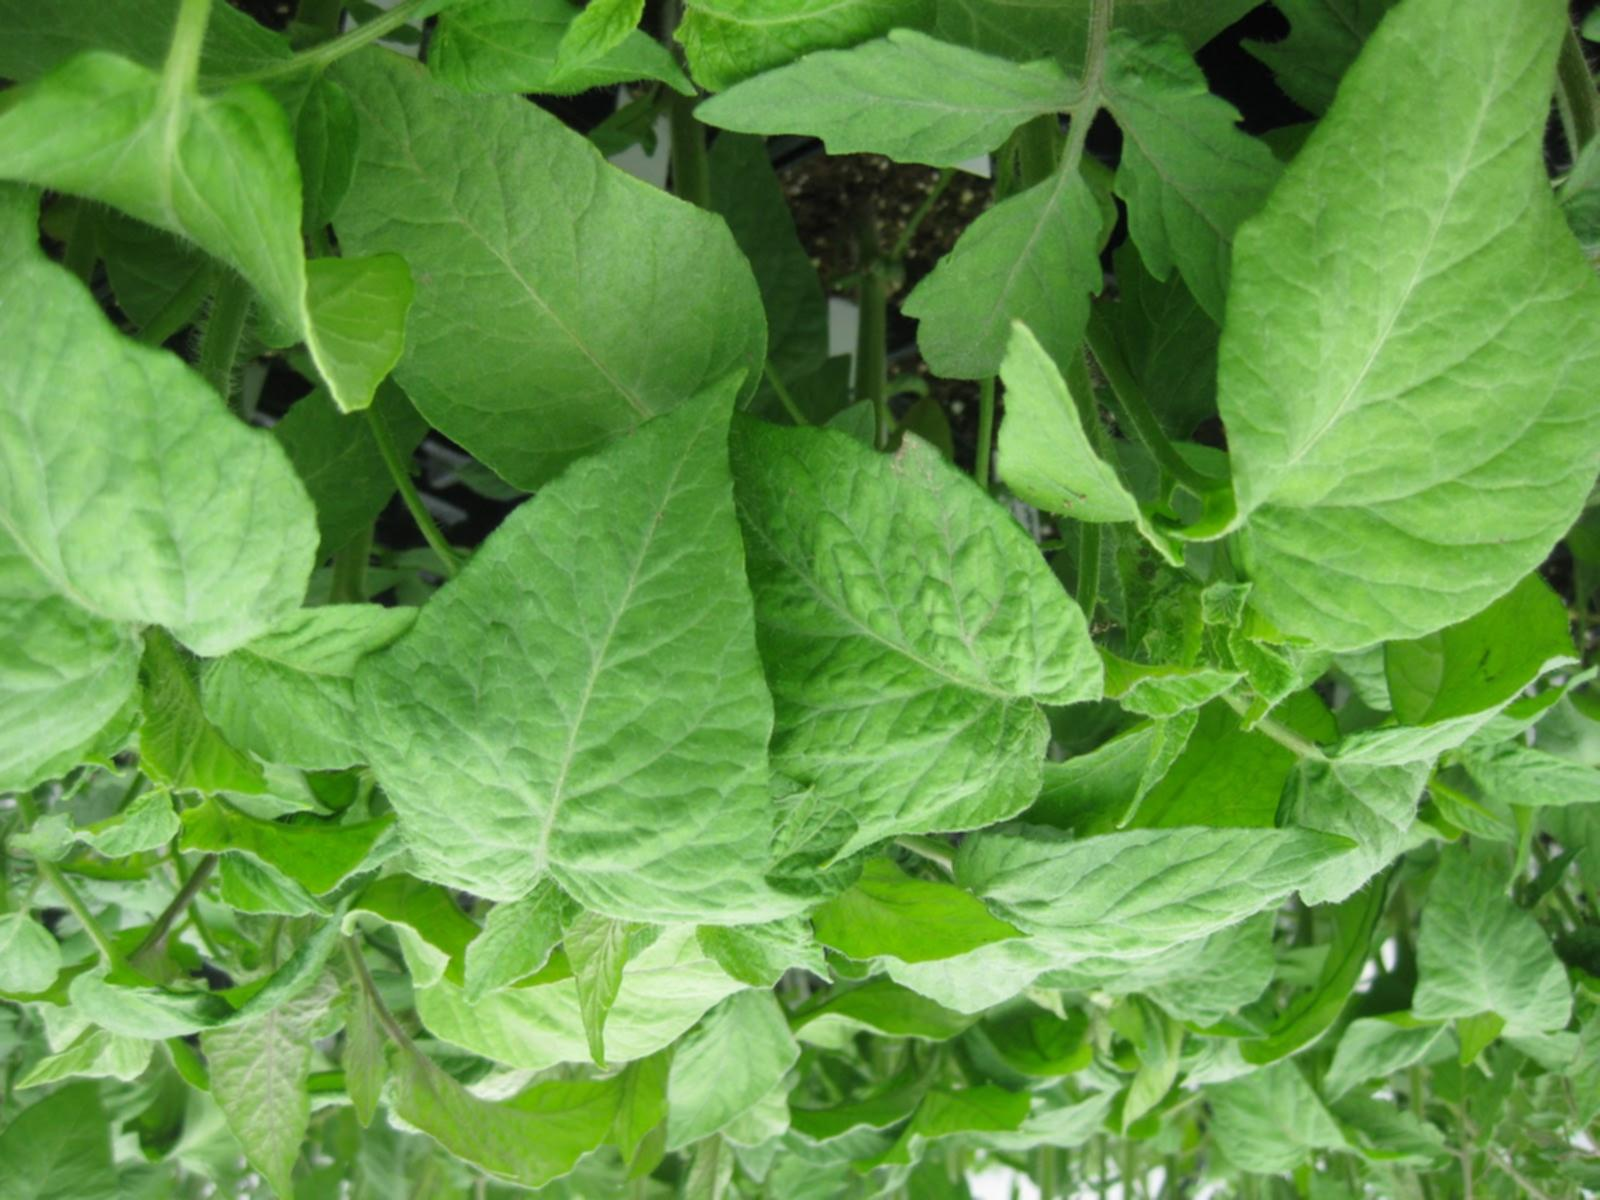Tomato leaf: (337, 366, 780, 972), (902, 822, 1348, 1028)
